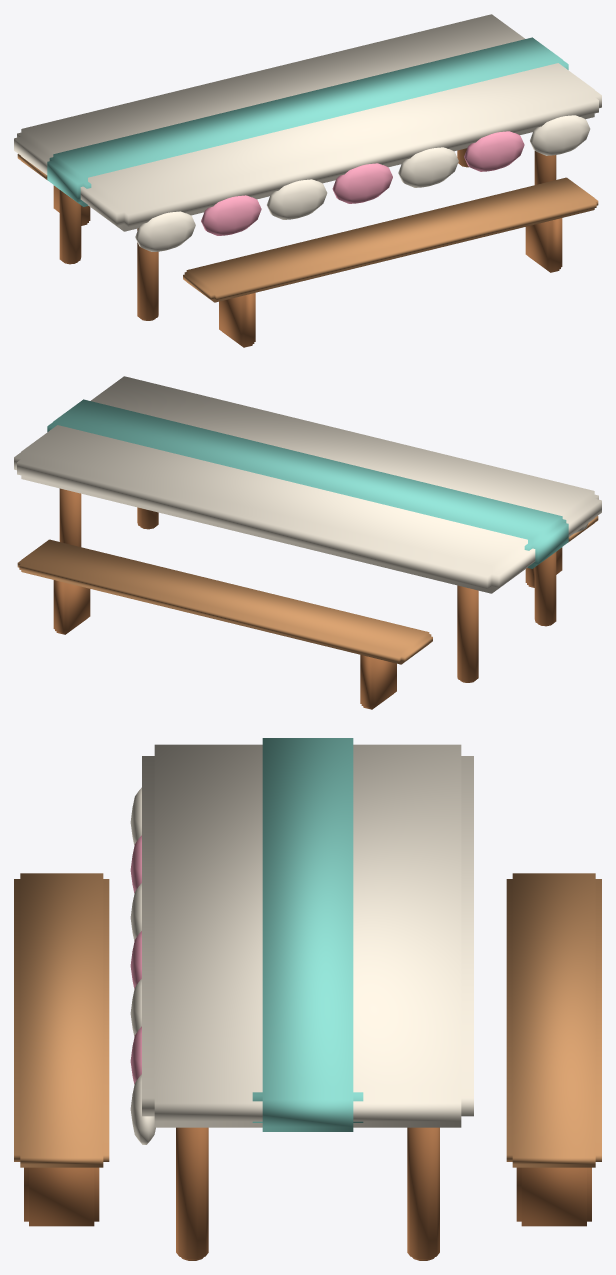
File: PavilionFestivalTable.fbx
3 views of the same model, one above another, from view 1: azimuth 30°, elevation 25°; view 2: azimuth 150°, elevation 25°; view 3: azimuth 270°, elevation 25° (orthographic). The views are drawn at different scales.
Parts seen in each view (by area): view 1: PavilionFestivalTable; view 2: PavilionFestivalTable; view 3: PavilionFestivalTable.
Boxes of the visible parts, x1,y1,x2,y2 form: PavilionFestivalTable: [14, 14, 601, 347]; PavilionFestivalTable: [14, 376, 601, 709]; PavilionFestivalTable: [14, 738, 601, 1260].
Bounding box in the file's own units: 3.36 × 0.875 × 2.34.
